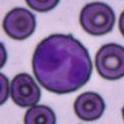E: (33, 34, 92, 94)
